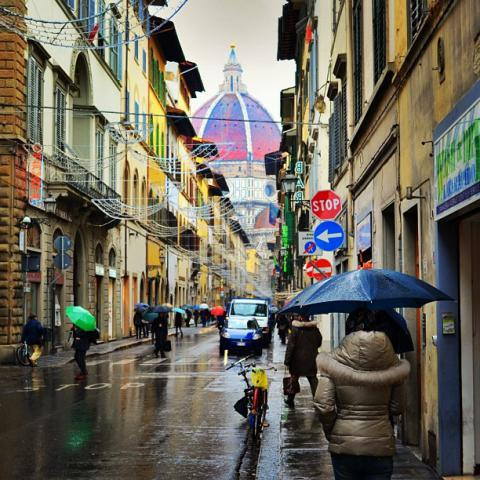car: (218, 317, 263, 355)
truck: (228, 299, 272, 347)
